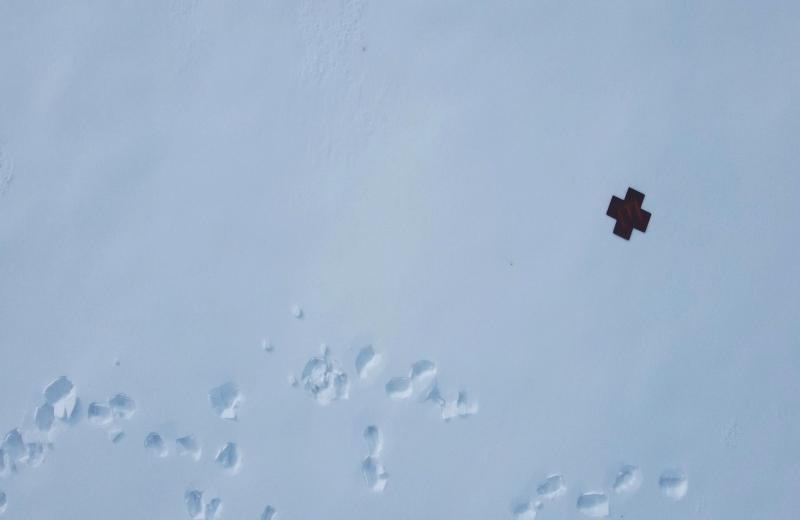Cross: (606, 186, 652, 241)
